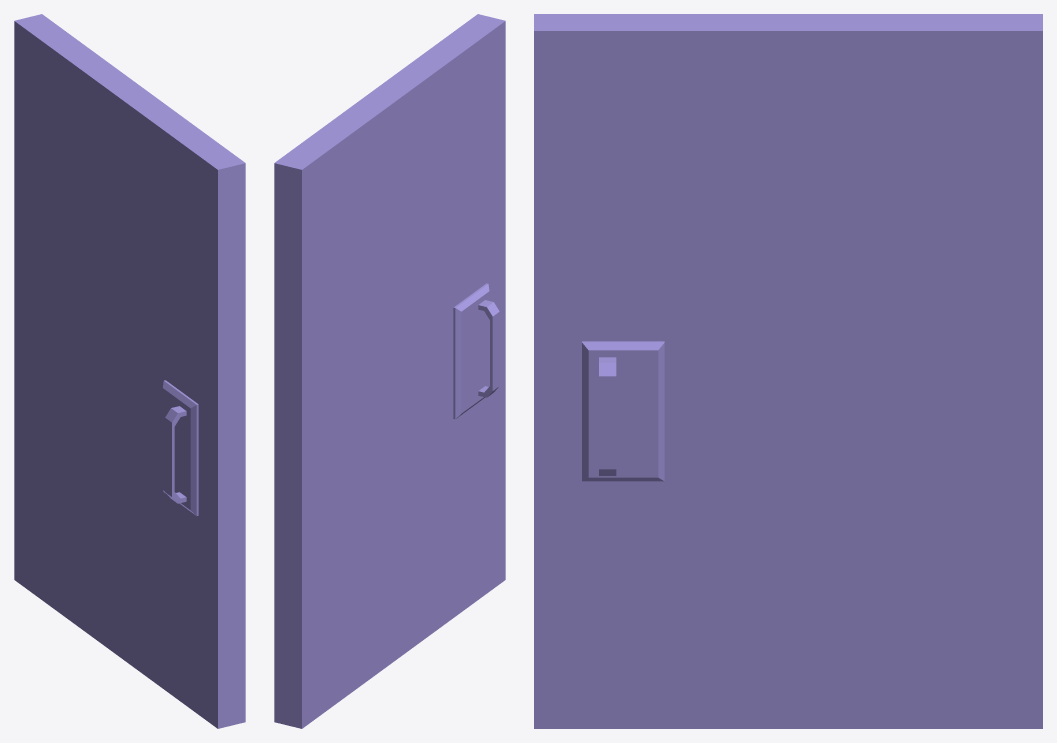
Rendered from mesh_police_room_door.fbx.
3 renders of one model, left to right at view 1: azimuth 30°, elevation 25°; view 2: azimuth 150°, elevation 25°; view 3: azimuth 270°, elevation 25°, orthographic. The views are drawn at different scales.
Parts seen in each view (by area): view 1: Police_room_door; view 2: Police_room_door; view 3: Police_room_door.
Boxes of the visible parts, bbox=[...] form: Police_room_door: bbox=[14, 14, 245, 728]; Police_room_door: bbox=[274, 14, 505, 728]; Police_room_door: bbox=[534, 14, 1042, 728].
Bounding box in the file's own units: 31.28 × 247 × 163.
